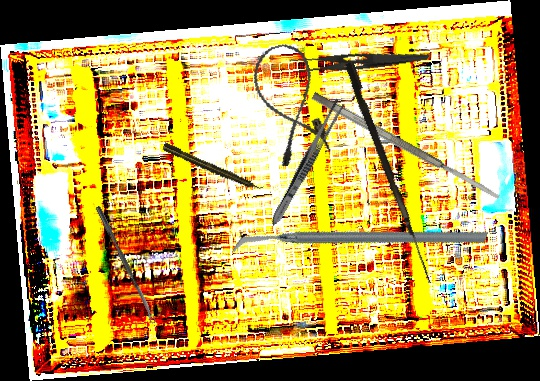Cannula: (246, 38, 334, 169)
Chopper: (231, 143, 489, 342)
Dressing Forceps: (267, 96, 347, 229), (287, 38, 431, 80)
Handpiece: (161, 141, 265, 195)
Hook Surgical: (341, 61, 441, 284)
Spatula Surgical: (310, 90, 502, 203)
Surgical Spoon: (94, 205, 157, 325)
